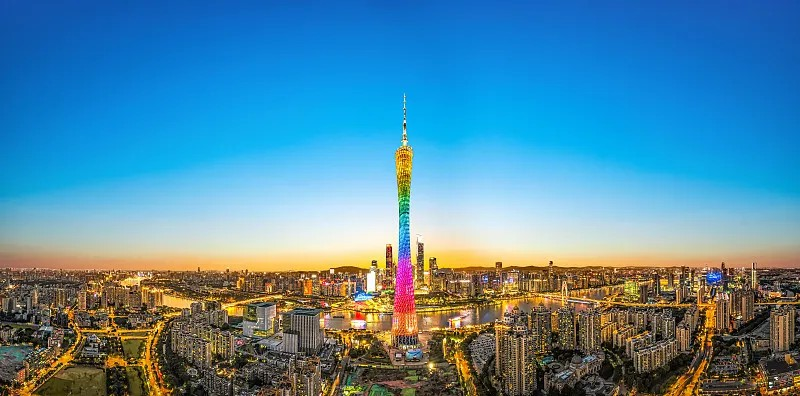Canton: (393, 90, 418, 346)
